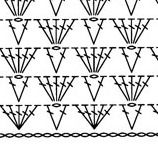double treble: (72, 117, 158, 150)
enseble_chain: (50, 71, 86, 108), (86, 42, 122, 78), (11, 100, 45, 135), (111, 36, 139, 77), (68, 41, 98, 78), (120, 101, 152, 135), (45, 102, 77, 136), (30, 71, 60, 107), (121, 42, 151, 78), (85, 100, 116, 133), (107, 71, 137, 105), (107, 14, 136, 48), (48, 46, 75, 77), (86, 75, 113, 105), (12, 75, 38, 106), (88, 18, 112, 48), (13, 18, 37, 48), (126, 17, 145, 45), (51, 17, 69, 44), (126, 74, 143, 101), (13, 47, 29, 74), (5, 0, 22, 19), (14, 0, 26, 17), (90, 0, 101, 17)
fan: (33, 15, 60, 48), (5, 75, 24, 105), (50, 75, 66, 103), (11, 47, 26, 75), (11, 104, 24, 128)
